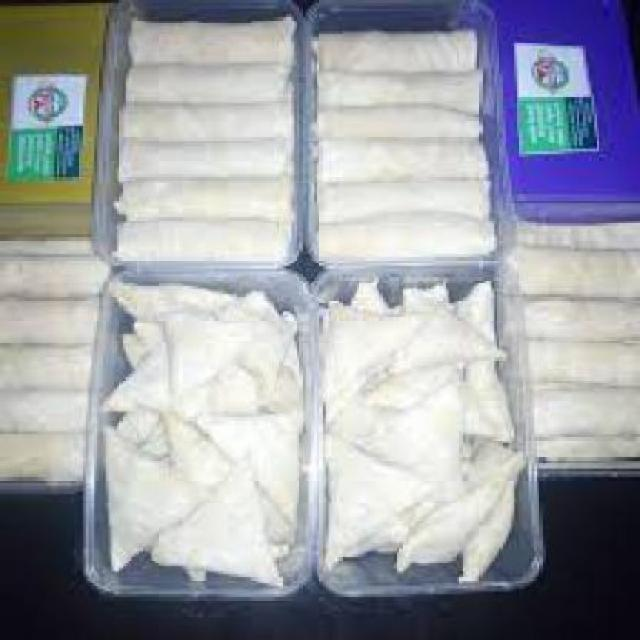samosa: (97, 266, 520, 592)
spring rolls: (111, 8, 500, 268)
